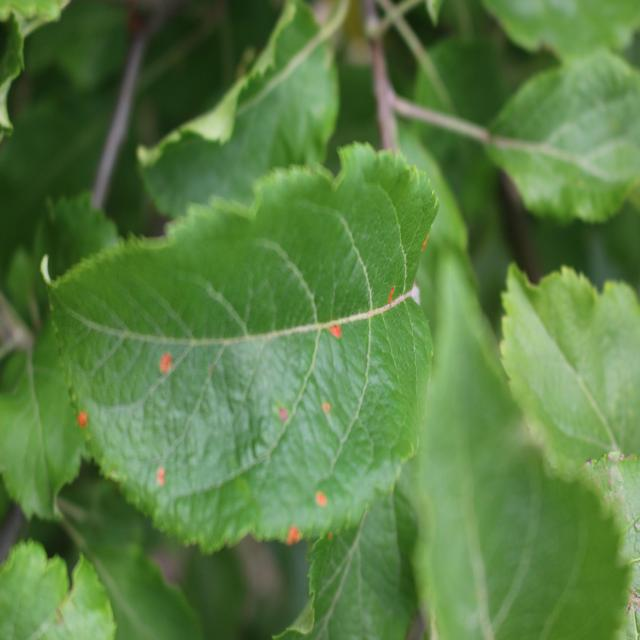Rust: (269, 374, 299, 446), (146, 336, 180, 392), (72, 387, 98, 454), (410, 220, 442, 271), (268, 510, 303, 556), (299, 476, 335, 520), (328, 306, 348, 369), (316, 389, 342, 430), (152, 452, 168, 509), (382, 269, 396, 317)
